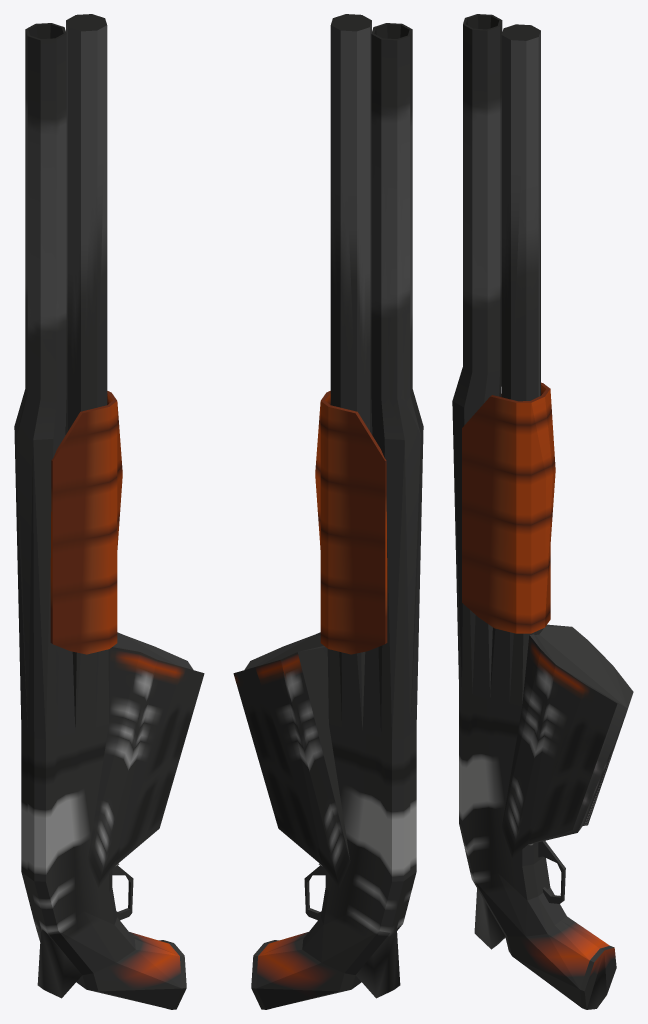
Rendered from ReplikaShotgun.fbx.
The picture shows the model from 3 angles, left to right: view 1: azimuth 30°, elevation 25°; view 2: azimuth 150°, elevation 25°; view 3: azimuth 330°, elevation 25°; orthographic projection. The views are drawn at different scales.
Visible parts, largest first — view 1: ShotgunSmol; view 2: ShotgunSmol; view 3: ShotgunSmol.
Boxes of the visible parts, x1=… form: ShotgunSmol: x1=14, y1=14, x2=204, y2=1009; ShotgunSmol: x1=233, y1=14, x2=423, y2=1009; ShotgunSmol: x1=452, y1=14, x2=633, y2=1009.
Bounding box in the file's own units: 0.0308 × 0.4976 × 0.094.
